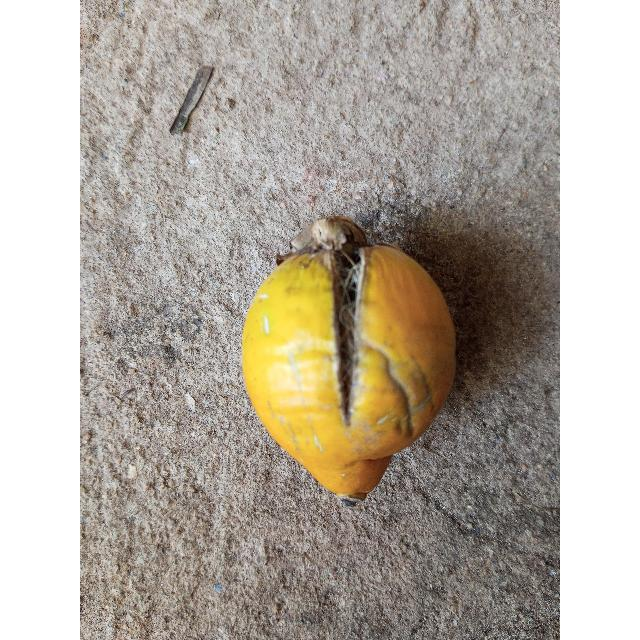damaged: (241, 217, 456, 501)
